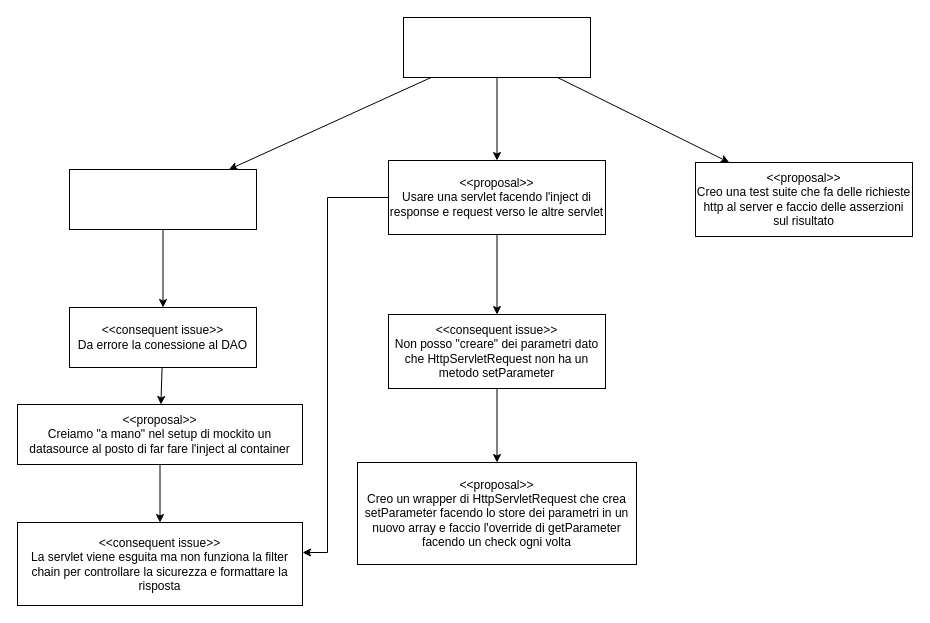
Image size: 930x623. Some labels were removed from this diagram. Here are the shapes that lost their labels. From the top down, the centre of each, then its label:
[496,47]: <<issue>> Come testare Le servlet?
[162,199]: <<proposal>> Usare mockito
